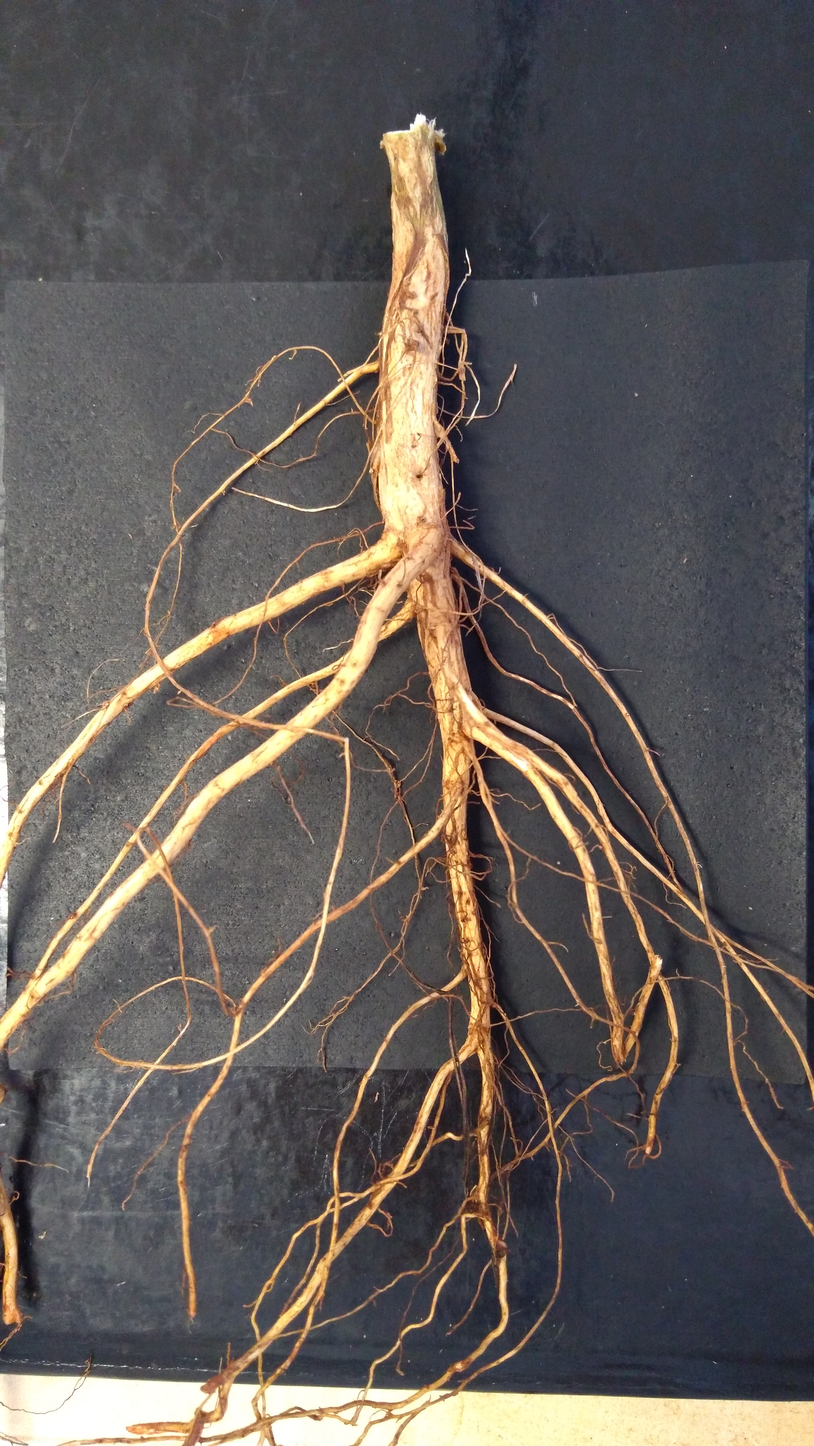nodule: (449, 781, 463, 796), (405, 338, 419, 352), (449, 567, 459, 581), (471, 1191, 479, 1203), (450, 831, 458, 842), (442, 337, 450, 345), (311, 681, 318, 689), (102, 700, 109, 708), (369, 467, 374, 475), (153, 686, 159, 691)
